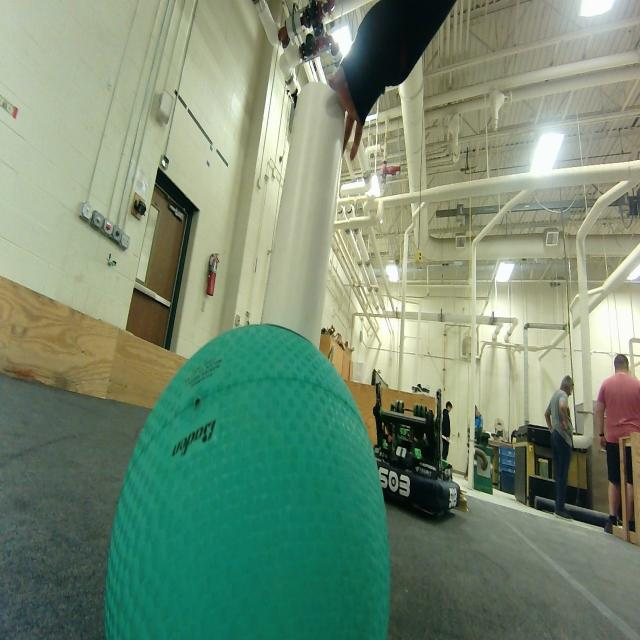coral: (108, 325, 381, 638)
